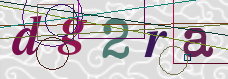2: (101, 17, 129, 58)
a: (182, 27, 212, 56)
d: (11, 15, 41, 54)
g: (57, 17, 83, 54)
r: (144, 30, 167, 57)
